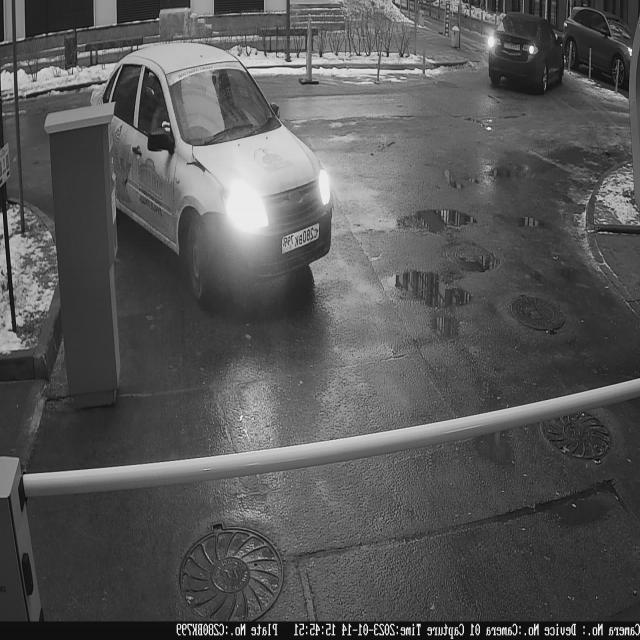car-plate-numbers: (281, 217, 322, 258)
